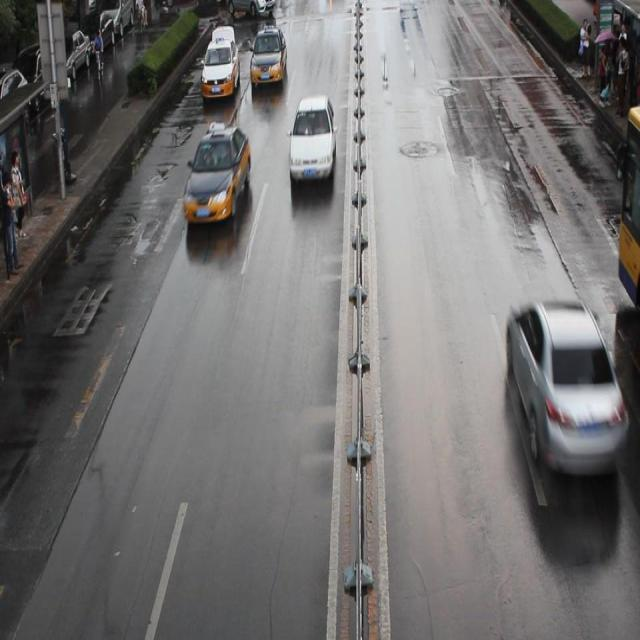car: (505, 299, 624, 474), (182, 120, 251, 224), (288, 95, 335, 181), (200, 37, 240, 99), (249, 26, 287, 87), (223, 1, 276, 13)
van: (616, 105, 640, 317)
